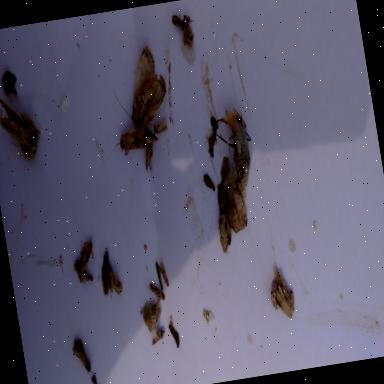abw: (120, 43, 172, 126)
pbw: (113, 123, 160, 157), (76, 238, 96, 270), (143, 277, 165, 303), (140, 143, 156, 172), (152, 113, 168, 134), (156, 258, 168, 286)
